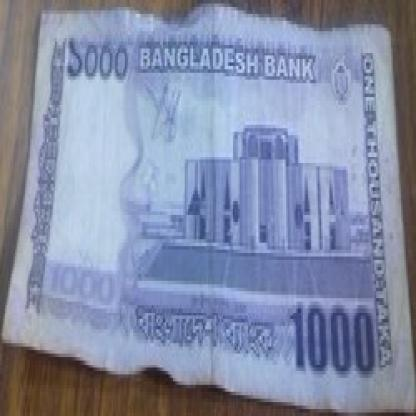One Thousand taka: (281, 288, 388, 392), (58, 24, 133, 94)
